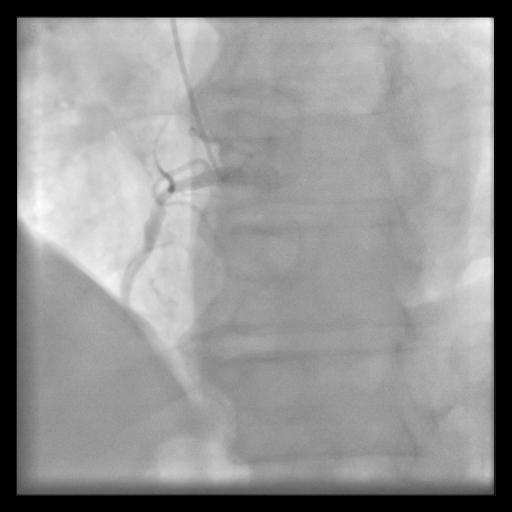Stenosis: (154, 181, 184, 205)
